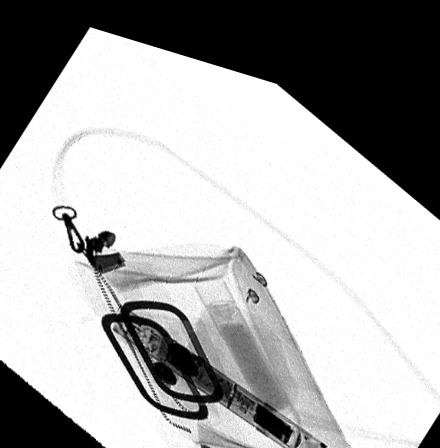Baton: (109, 295, 331, 448)
